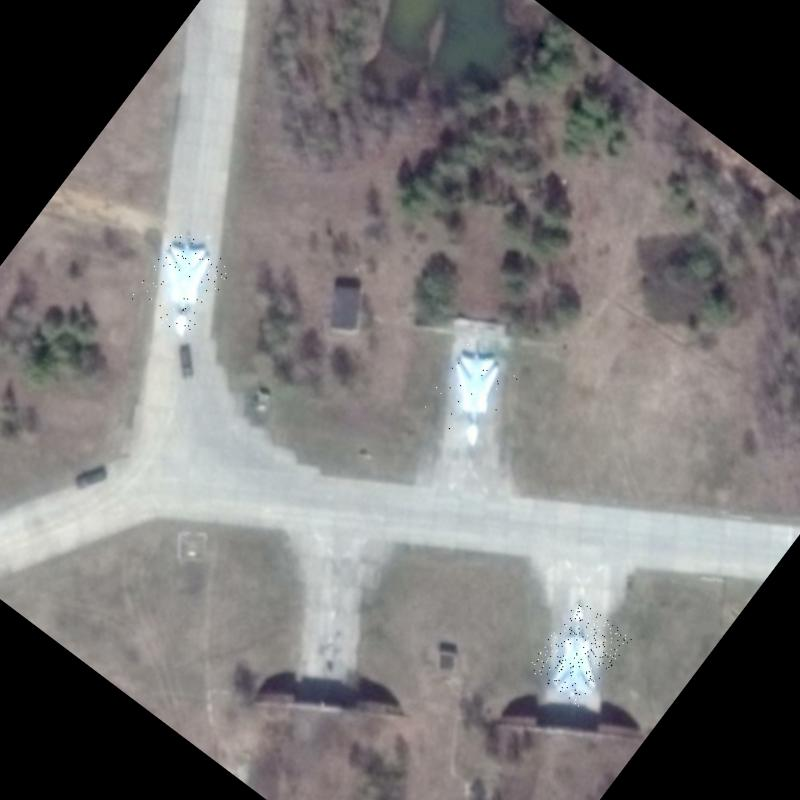A20: (127, 228, 237, 342), (418, 338, 526, 450), (526, 598, 632, 708)
